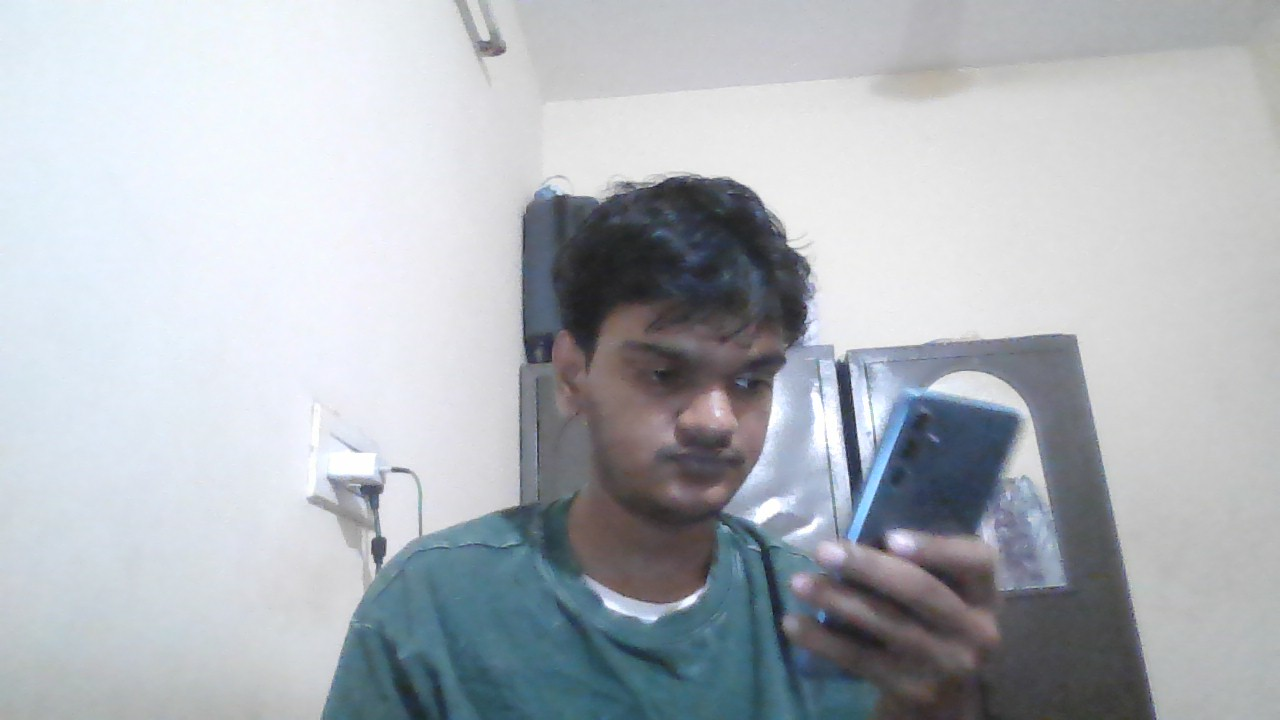phone: (868, 389, 1021, 524)
